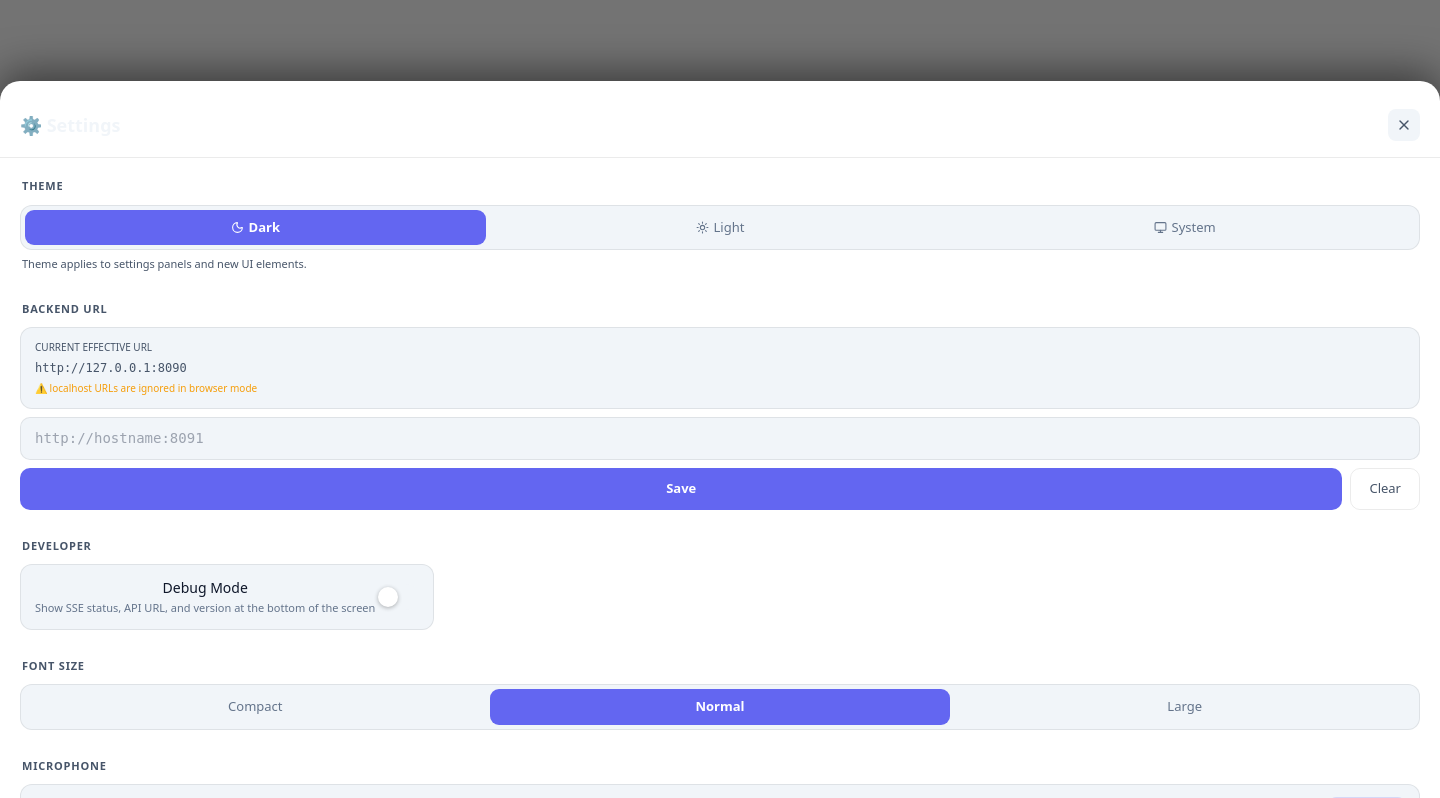
Scenario: MobileSettingsPanel › backend URL › saves URL to localStorage when Save is clicked
The width and height of the screenshot is (1440, 798).
In the field with placeholder "http://hostname:8091": (720, 438) 20,417 -> 1420,460, type "http://myserver:8091"
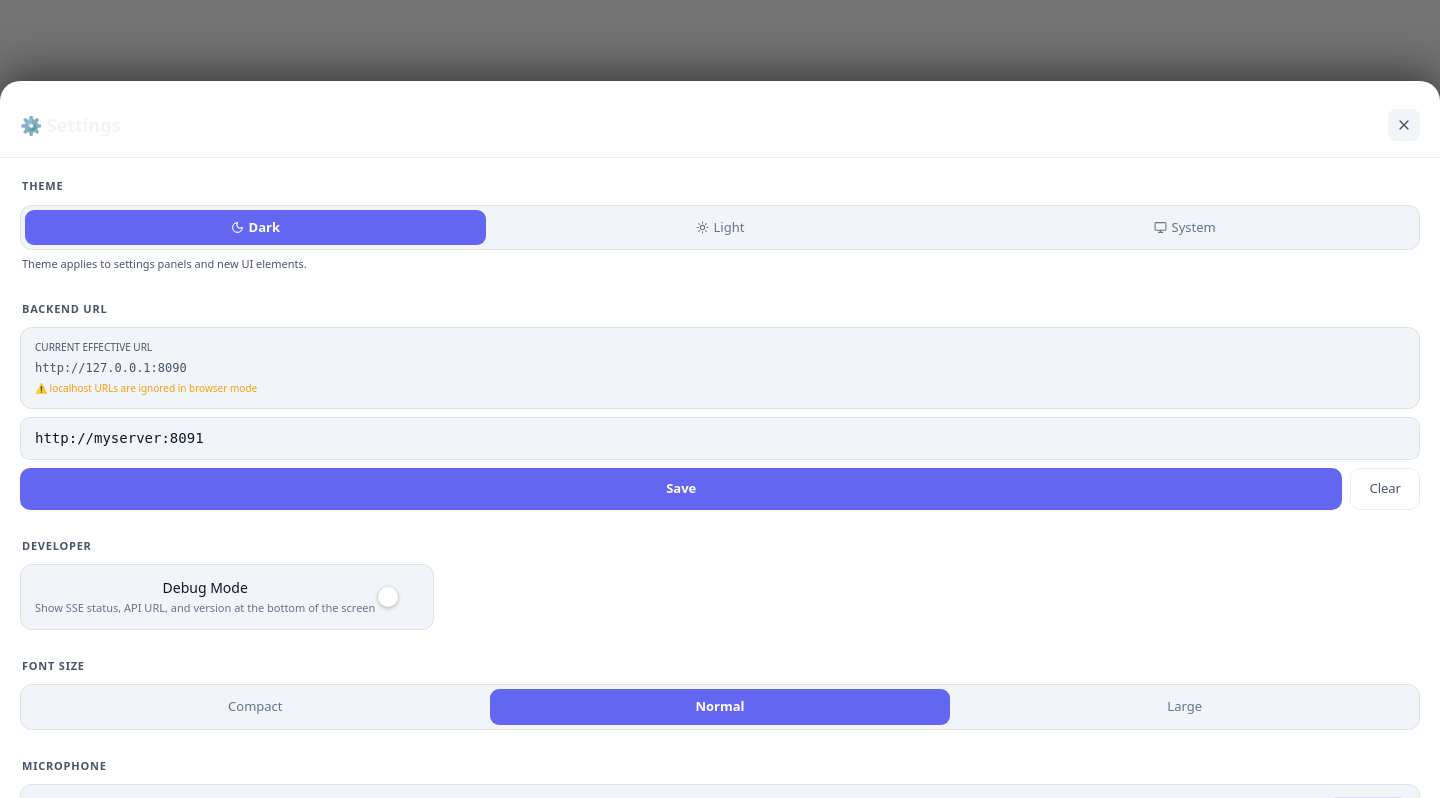
Click the button "Save": (681, 489) 20,468 -> 1342,510
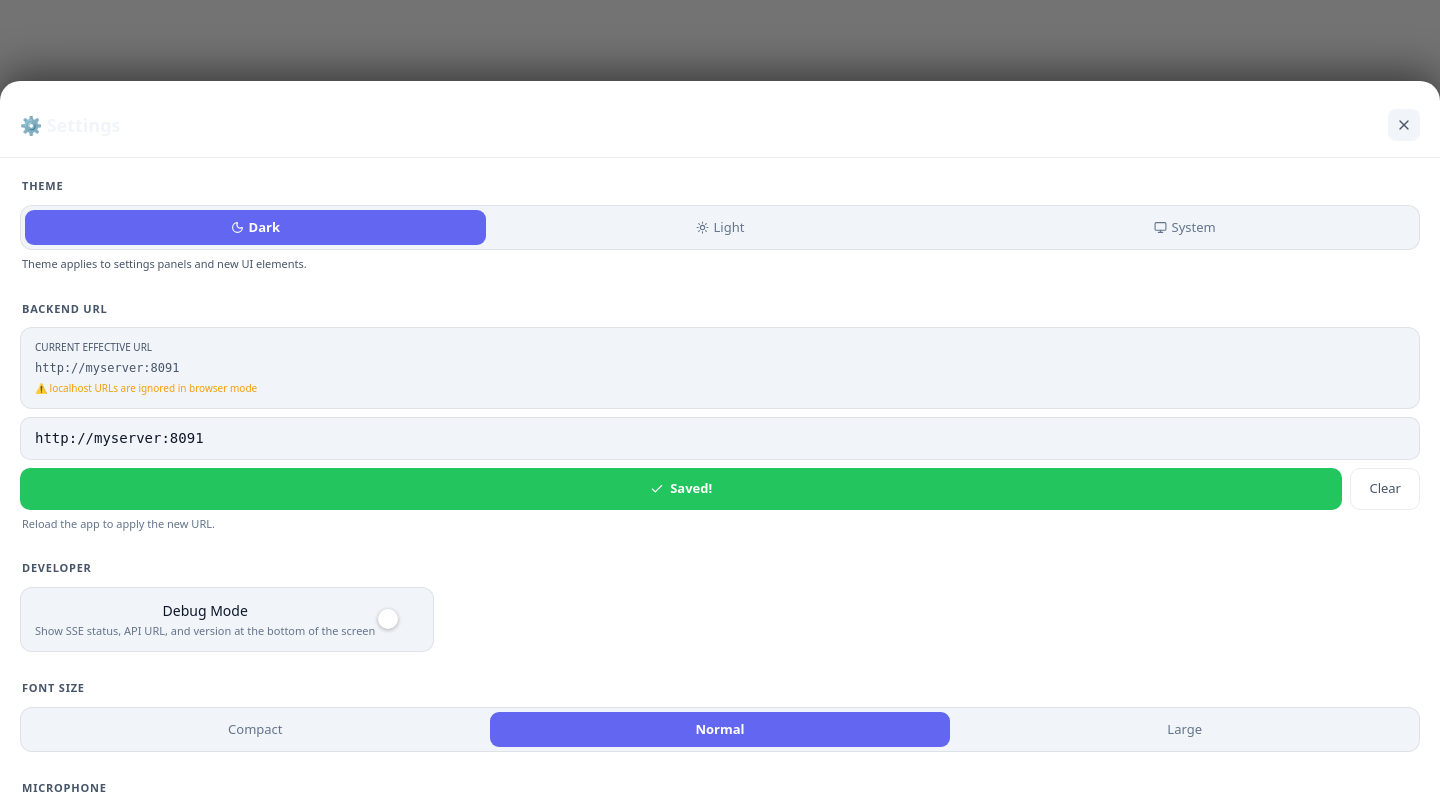
Expected: the text "http://myserver:8091" is shown, 35,361 -> 180,375
